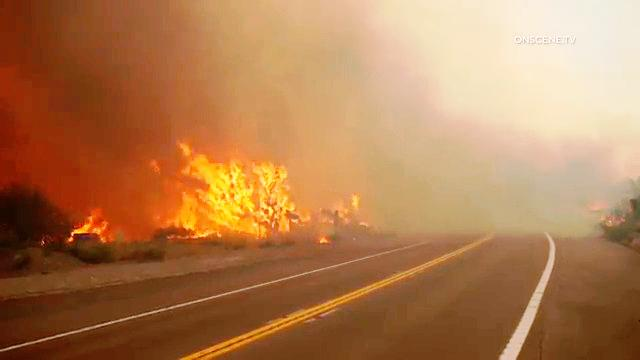fire: (141, 144, 274, 245), (275, 147, 375, 253), (66, 205, 118, 245)
smoke: (5, 4, 497, 143), (519, 52, 633, 148), (406, 156, 533, 240), (12, 143, 134, 196)
